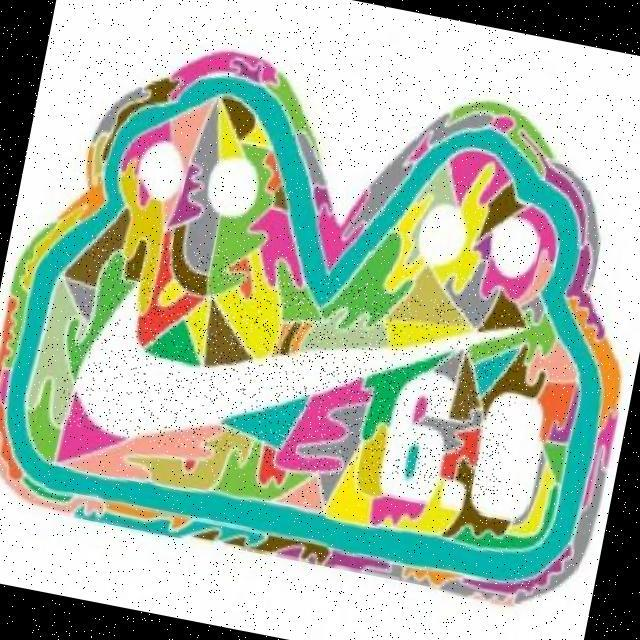Nike: (56, 231, 533, 509)
